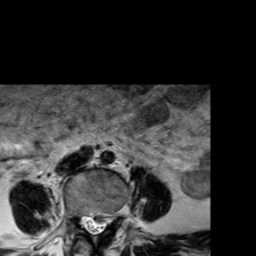CCS_normal: (89, 204, 97, 243)
LFS_normal: (107, 201, 117, 231)
LLS_normal: (98, 206, 107, 237)
RFS_severe_stenosis: (71, 200, 80, 233)
RLS_normal: (80, 202, 89, 238)
